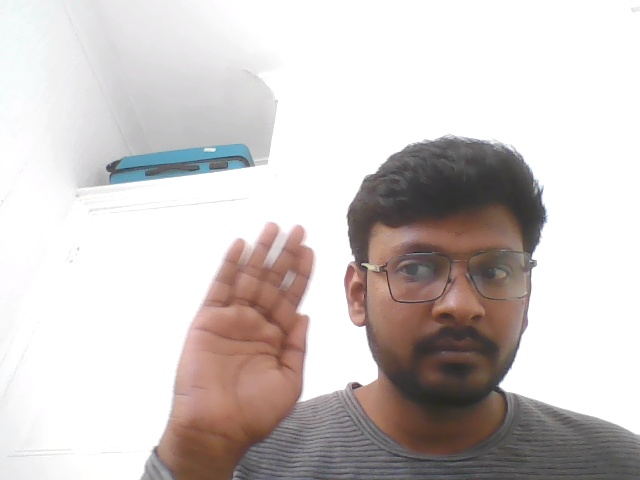Hello: (134, 215, 344, 480)
